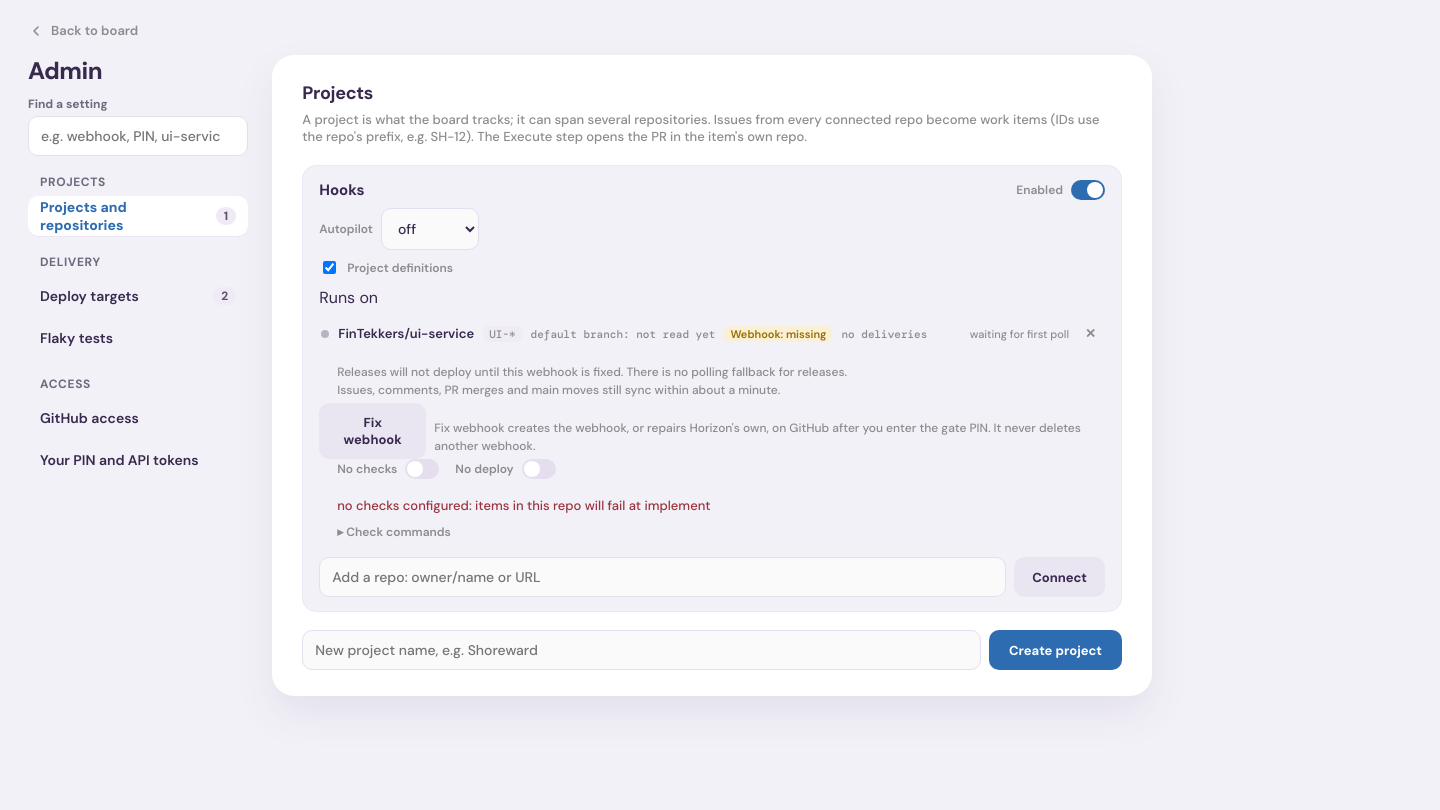
Test: Fix webhook asks for the PIN: none sends nothing, a wrong one shows Gate PIN incorrect, a right one fixes and re-reads status
Click the button "Fix webhook": (373, 431) [319,403,426,459]
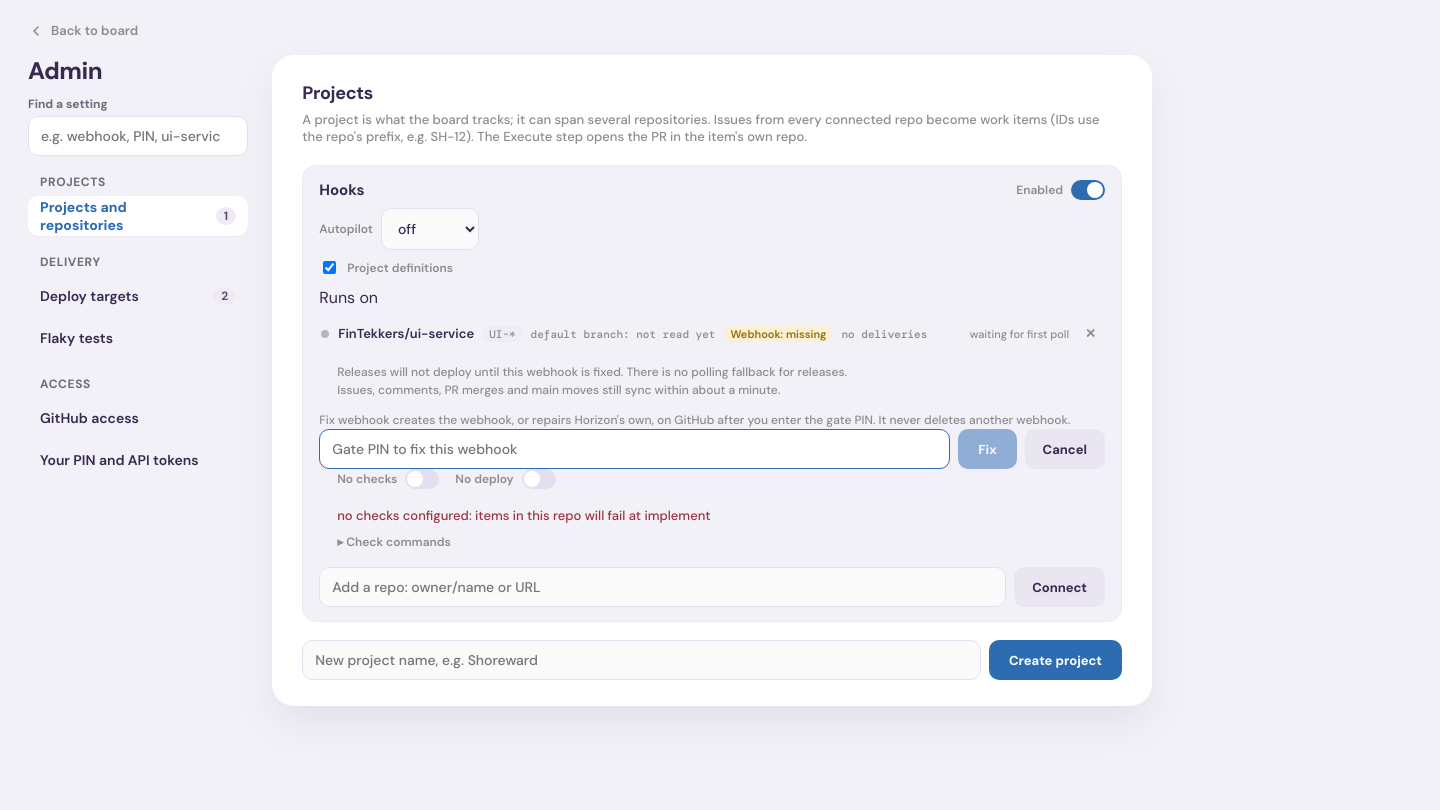
Expected: the button "Fix" is disabled, [958,429,1017,469]
Submit the form named "Gate PIN to fix the FinTekkers/ui-service webhook", box [319,429,1105,469]
In the password field named "Gate PIN to fix the FinTekkers/ui-service webhook": (635, 449) [319,429,950,469], type "wrong-pin"
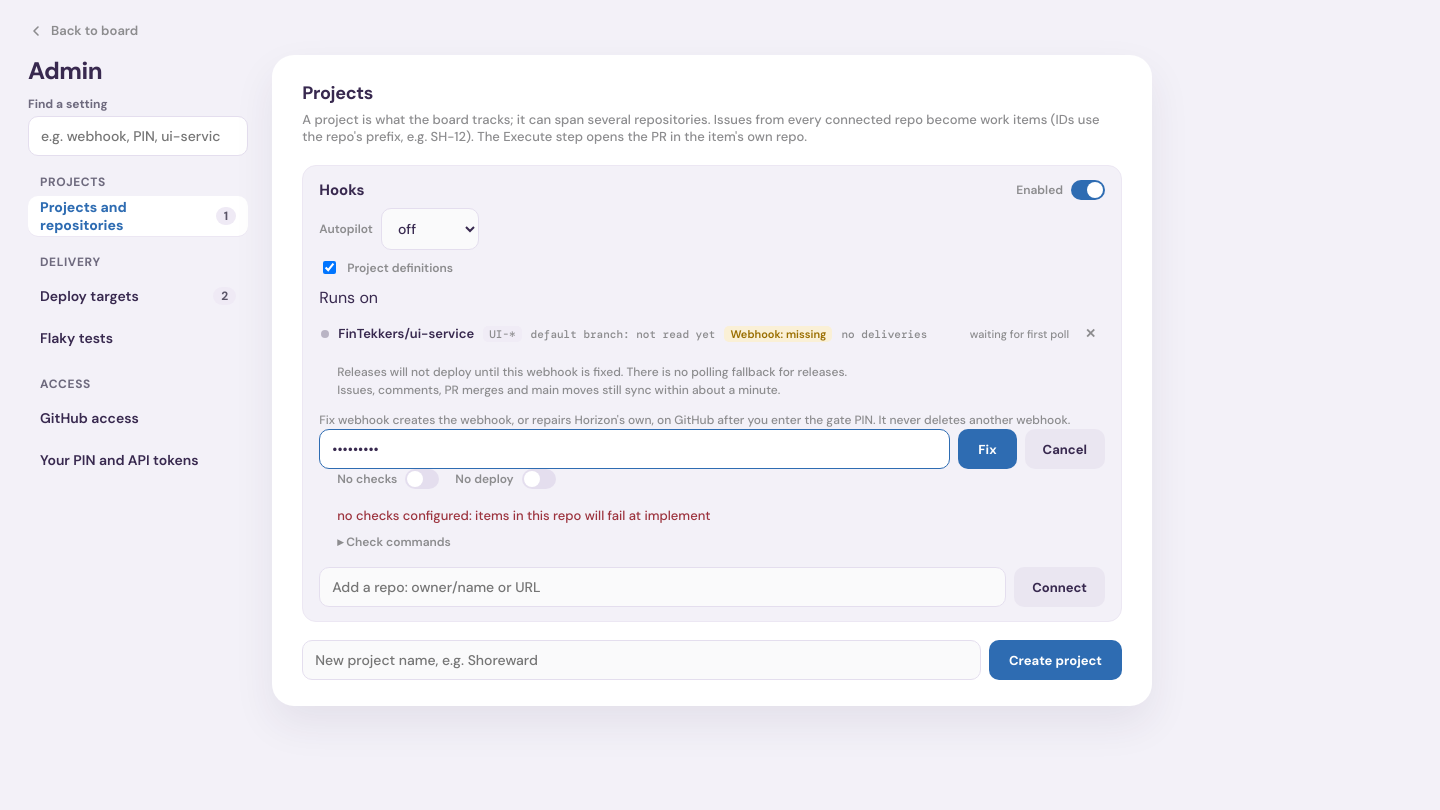
Click the button "Fix": (988, 449) [958,429,1017,469]
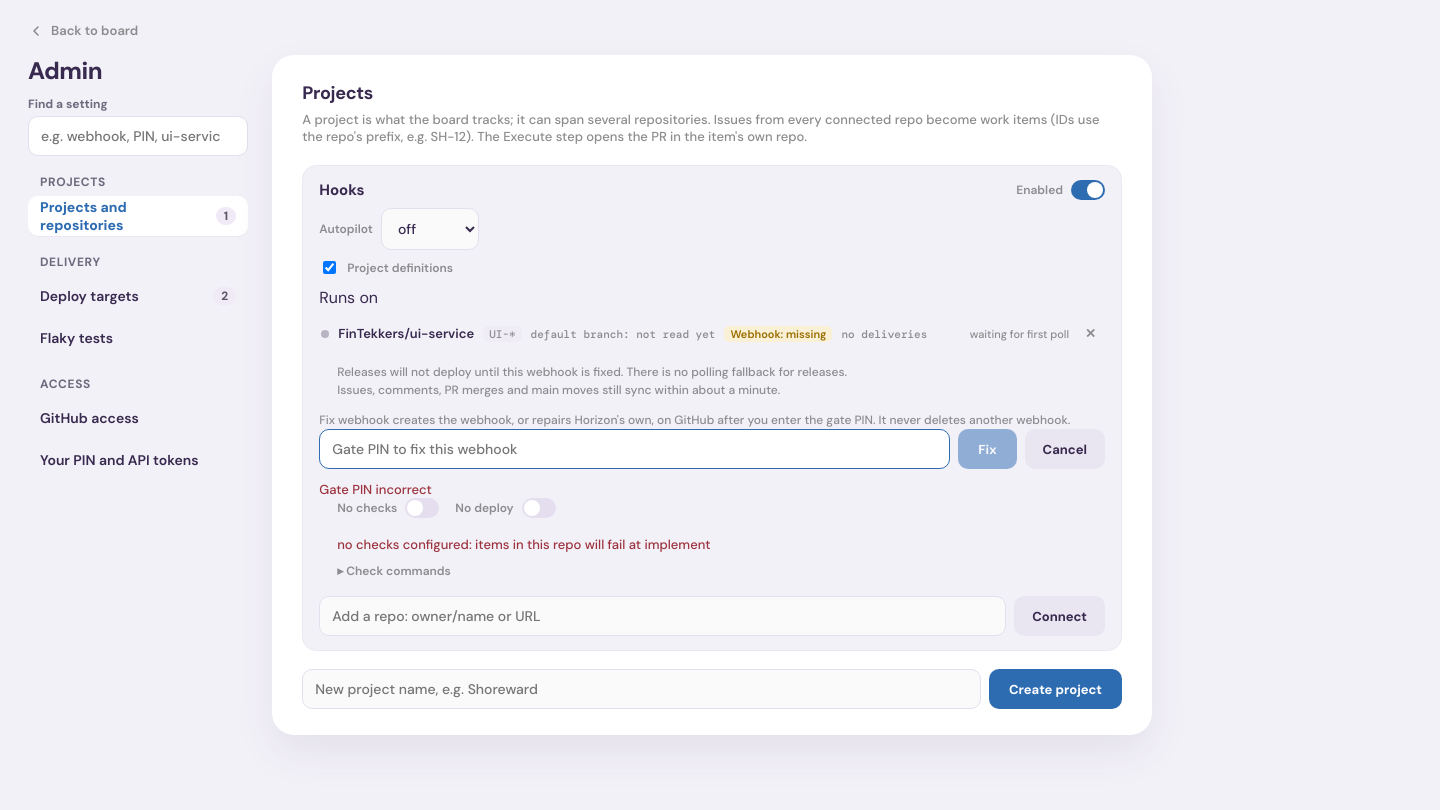
Expected: the text "Gate PIN incorrect" is shown, [319,481,432,498]
Expected: the password field named "Gate PIN to fix the FinTekkers/ui-service webhook" is empty
In the password field named "Gate PIN to fix the FinTekkers/ui-service webhook": (635, 449) [319,429,950,469], type "right-pin"
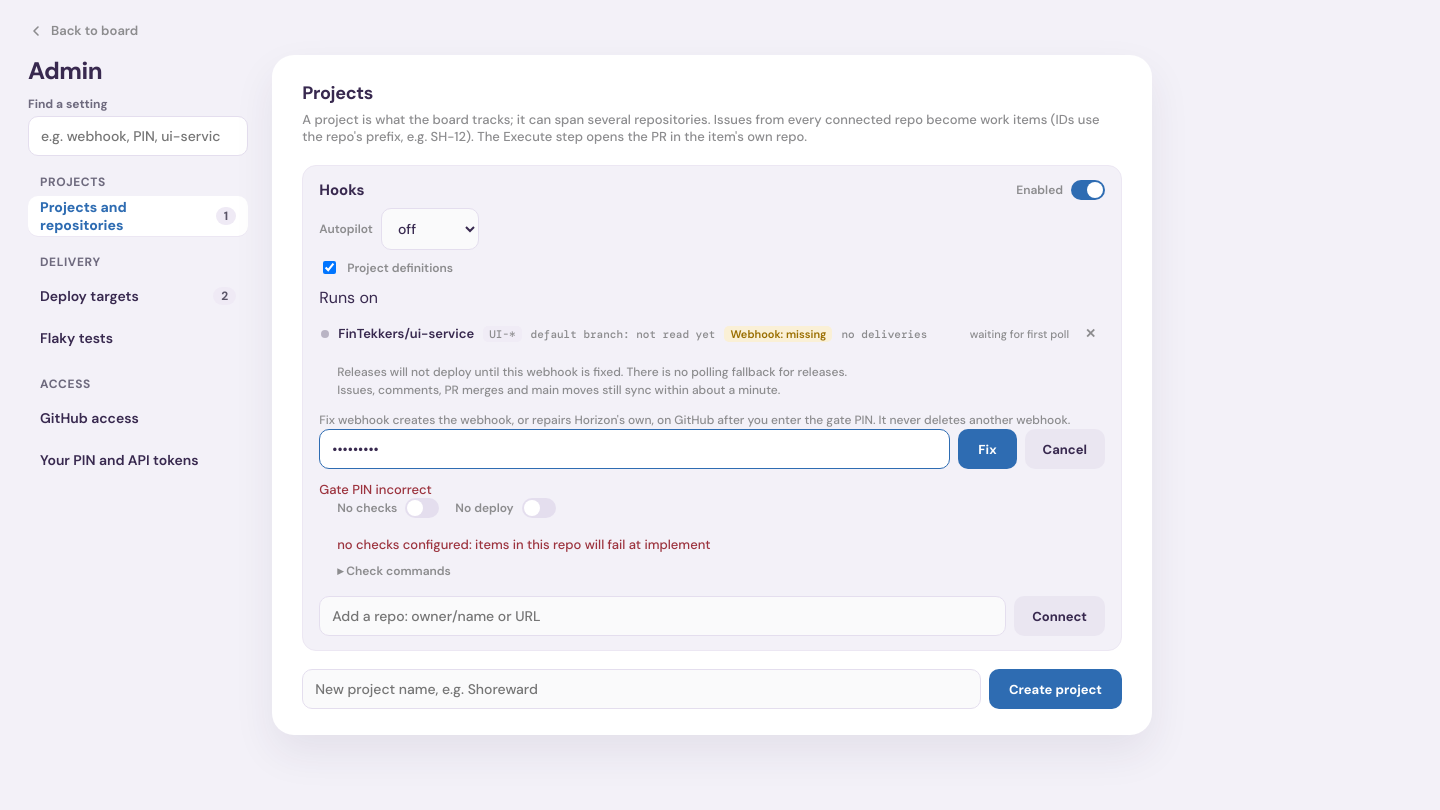
Click the button "Fix": (988, 449) [958,429,1017,469]
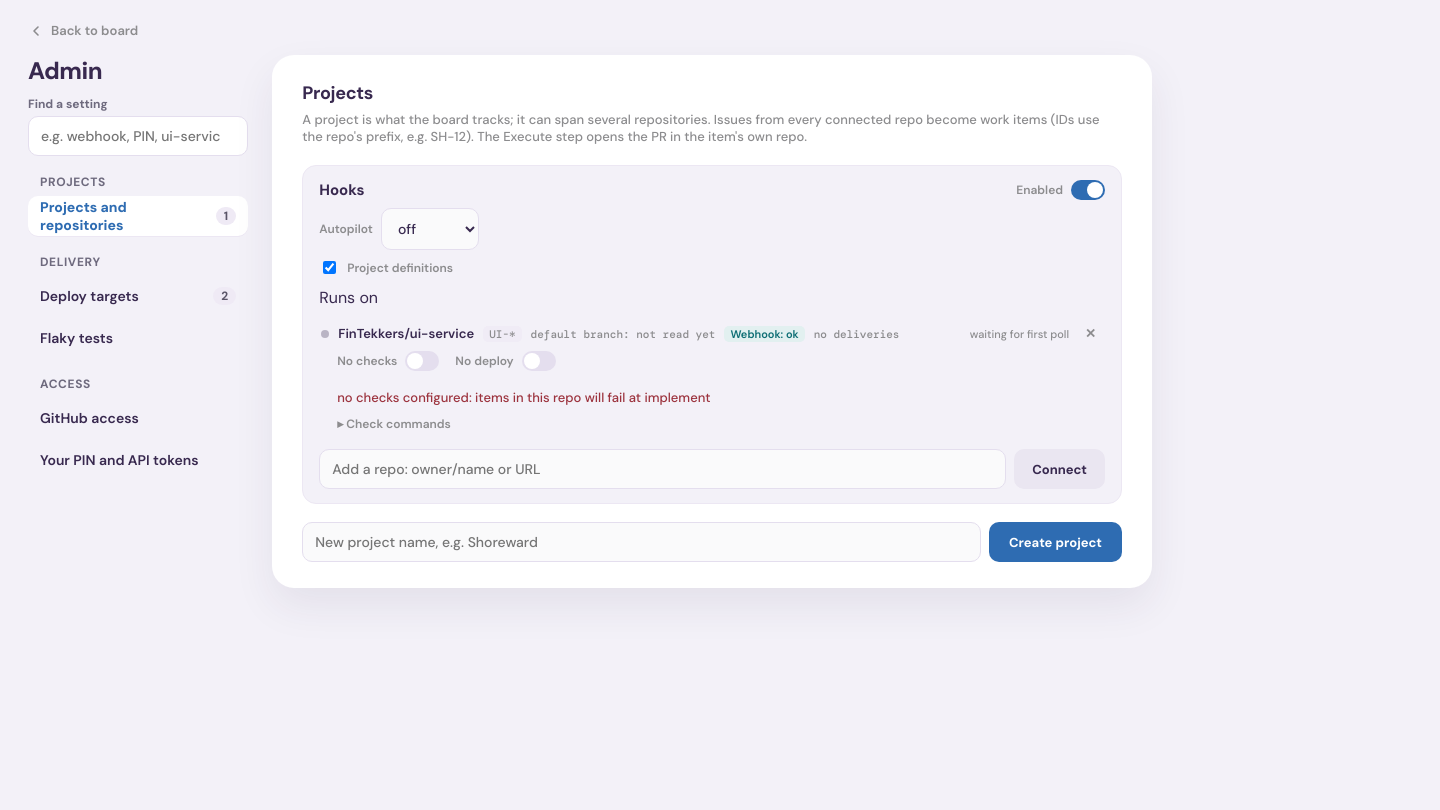
Expected: the text "Webhook: ok" is shown, [724,326,805,342]
Expected: the text "Fix webhook" is gone
